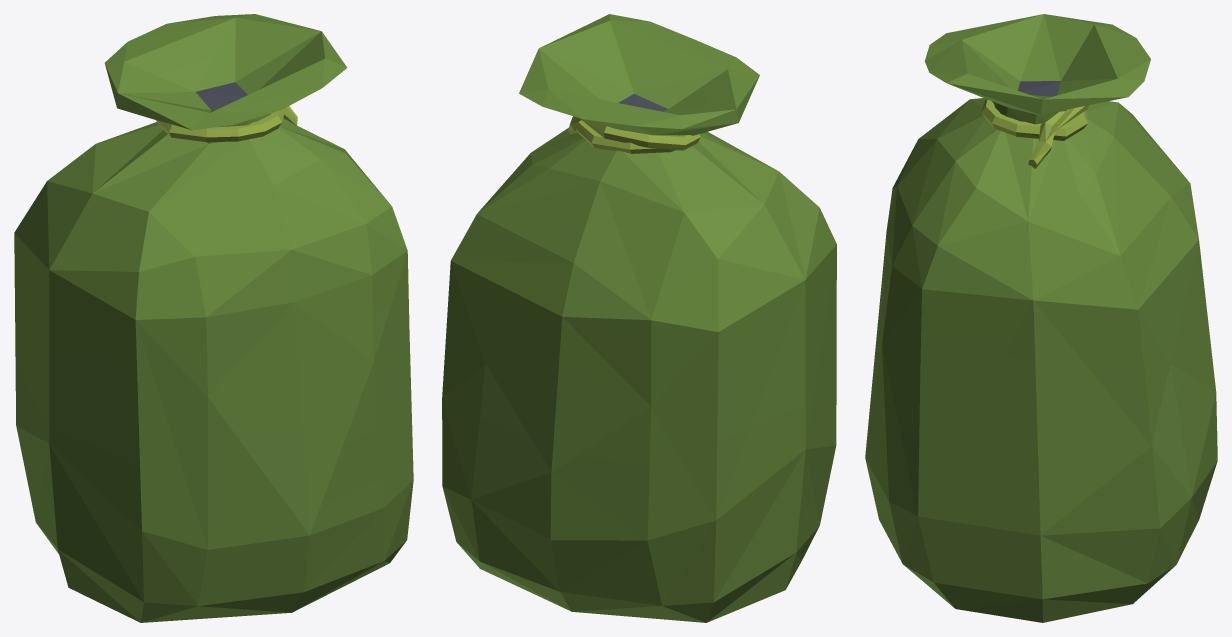
The model's file is Bag_04.fbx.
3 renders of one model, left to right at view 1: azimuth 30°, elevation 25°; view 2: azimuth 150°, elevation 25°; view 3: azimuth 270°, elevation 25°, orthographic. The views are drawn at different scales.
Parts seen in each view (by area): view 1: Bag_04; view 2: Bag_04; view 3: Bag_04.
Part boxes in pixels (x1,y1,x2,y2): Bag_04: (14,14,413,622); Bag_04: (442,14,836,622); Bag_04: (865,14,1217,622).
Size of the model in its own units: 0.4894 by 0.7046 by 0.444.
